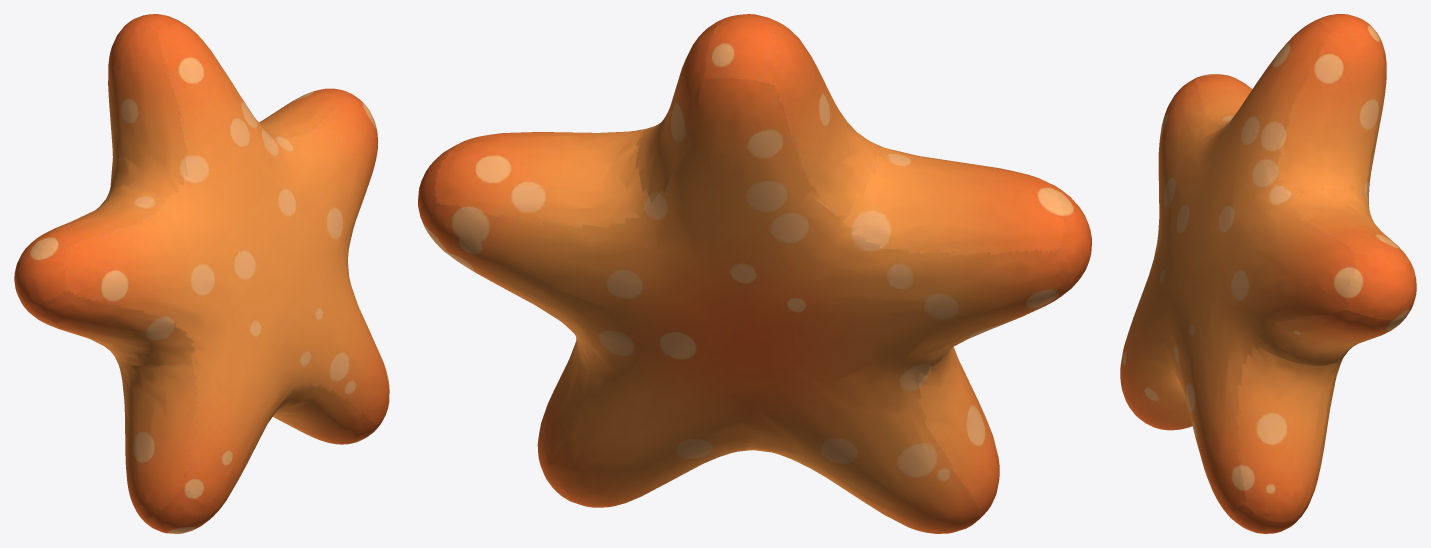
The model's file is star.glb.
3 renders of one model, left to right at view 1: azimuth 30°, elevation 25°; view 2: azimuth 150°, elevation 25°; view 3: azimuth 270°, elevation 25°, orthographic. The views are drawn at different scales.
Visible parts, largest first — view 1: Circle_Material.002_0; view 2: Circle_Material.002_0; view 3: Circle_Material.002_0.
Part boxes in pixels (<box>): Circle_Material.002_0: <box>14,14,389,533</box>; Circle_Material.002_0: <box>418,14,1091,533</box>; Circle_Material.002_0: <box>1120,14,1416,533</box>.
Bounding box in the file's own units: 3.83 × 3.73 × 2.28.
1 material, 1 textured.
